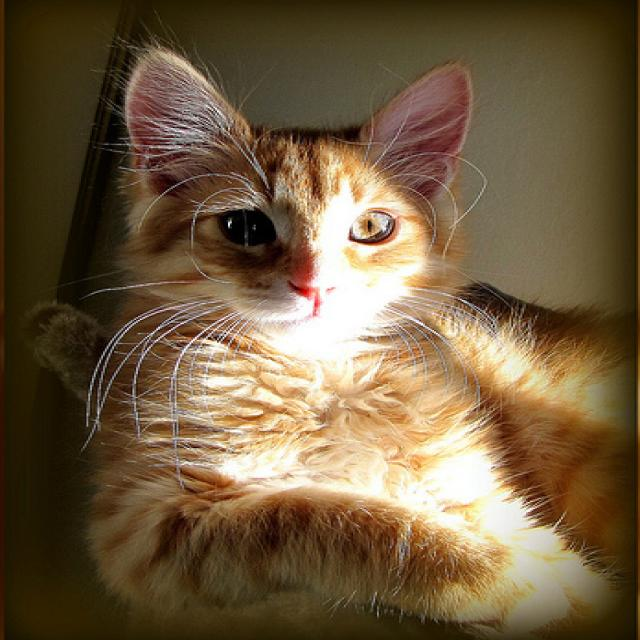Maine Coon: (78, 34, 636, 640)
